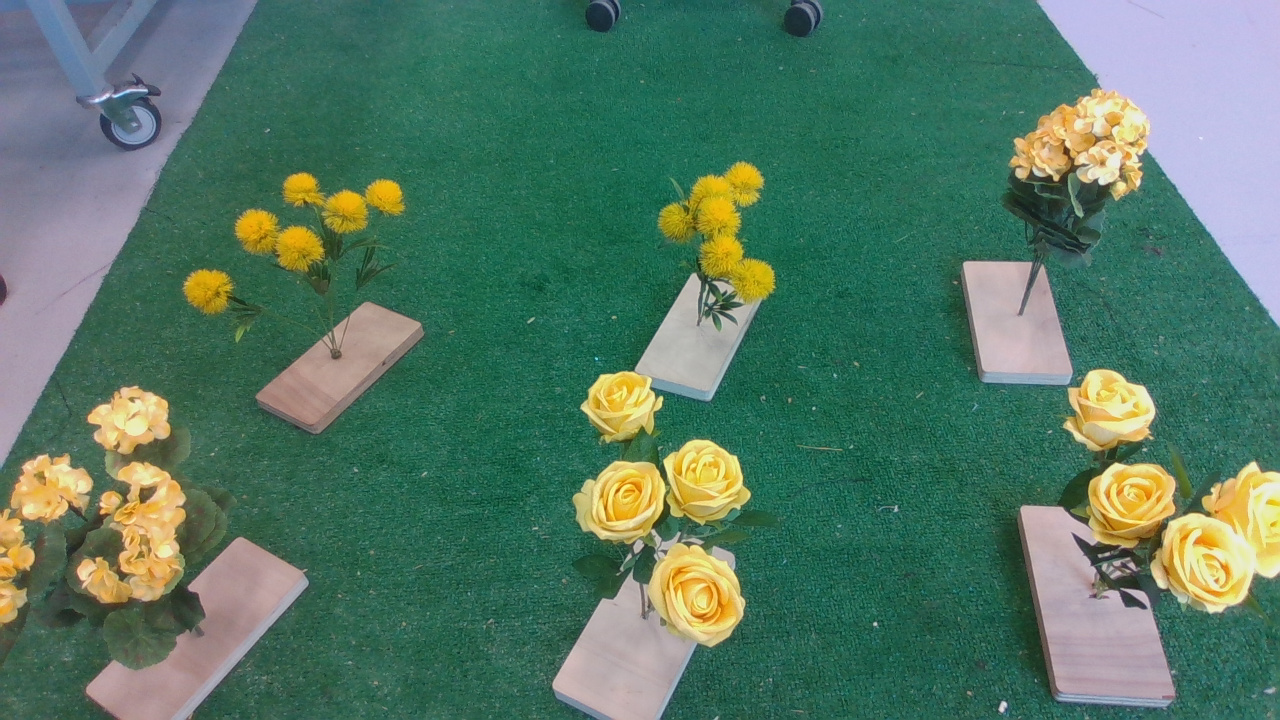dandelion: (181, 174, 438, 350), (648, 154, 784, 340)
geranium: (6, 384, 250, 681), (1005, 82, 1159, 278)
rose: (1058, 369, 1280, 629), (573, 367, 764, 657)
